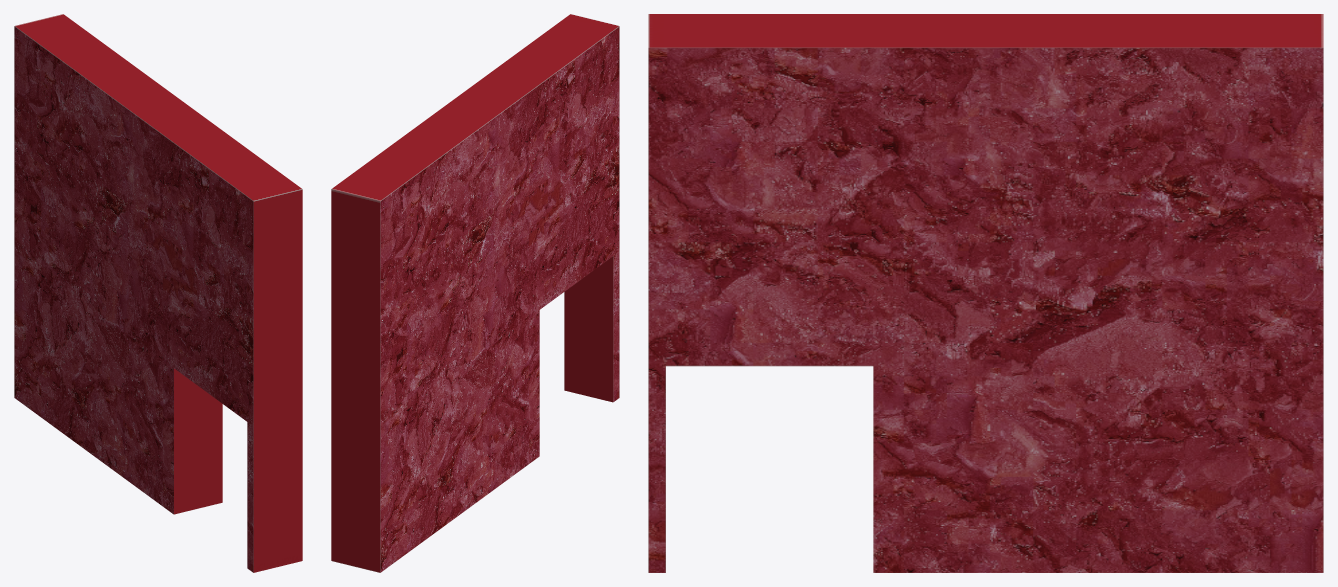
File: WallRight.FBX
3 views of the same model, side by side, from view 1: azimuth 30°, elevation 25°; view 2: azimuth 150°, elevation 25°; view 3: azimuth 270°, elevation 25° (orthographic). The views are drawn at different scales.
Parts seen in each view (by area): view 1: Object002; view 2: Object002; view 3: Object002.
Part boxes in pixels (x1,y1,x2,y2): Object002: [14, 14, 302, 572]; Object002: [331, 14, 619, 572]; Object002: [648, 14, 1323, 572].
Bounding box in the file's own units: 3.66 × 26.57 × 30.96.
